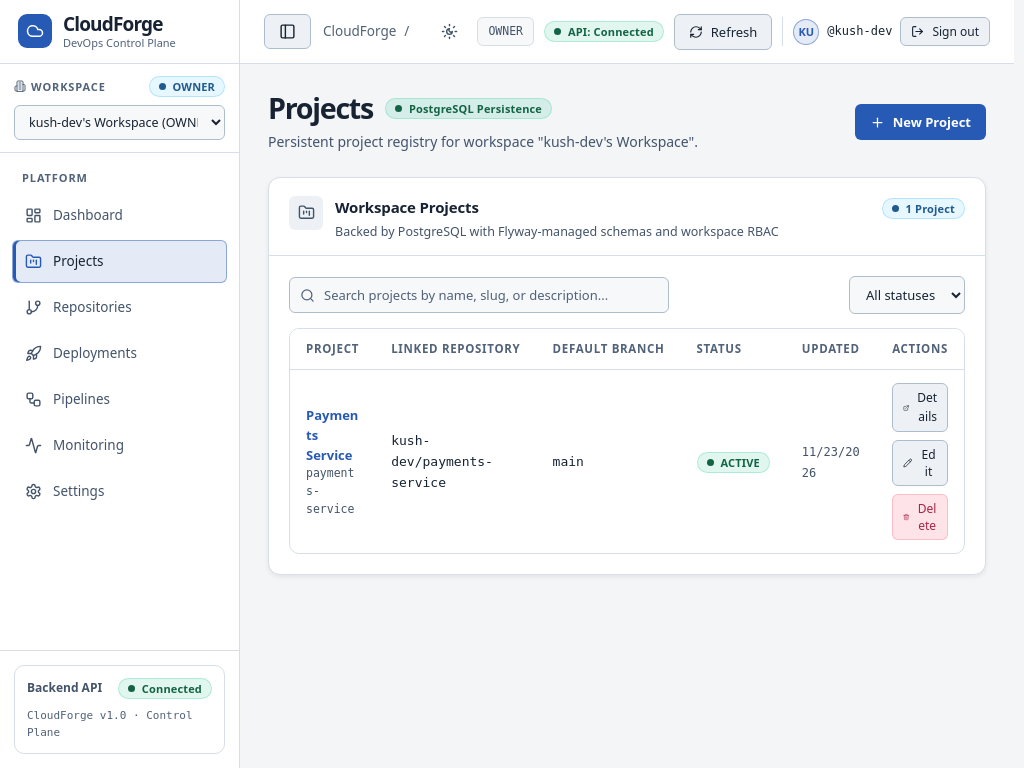
CloudForge Phase 2 Web Console › supports creating a persistent project and surfaces backend API validation errors cleanly
The image size is (1024, 768).
Expected: the link "Payments Service" is shown, [306,406,358,464]
Click the button "New Project" at (920, 122), box [855,104,986,140]
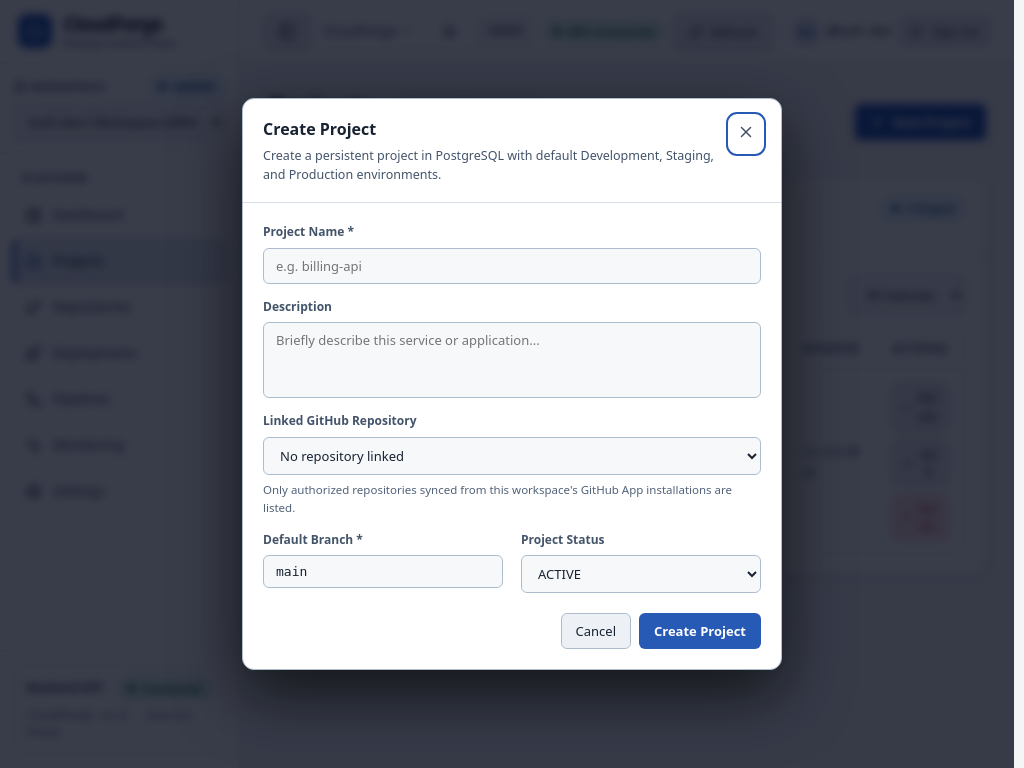
Type "Orders API" into the field labelled "Project Name *" at (512, 266), box [263,248,761,284]
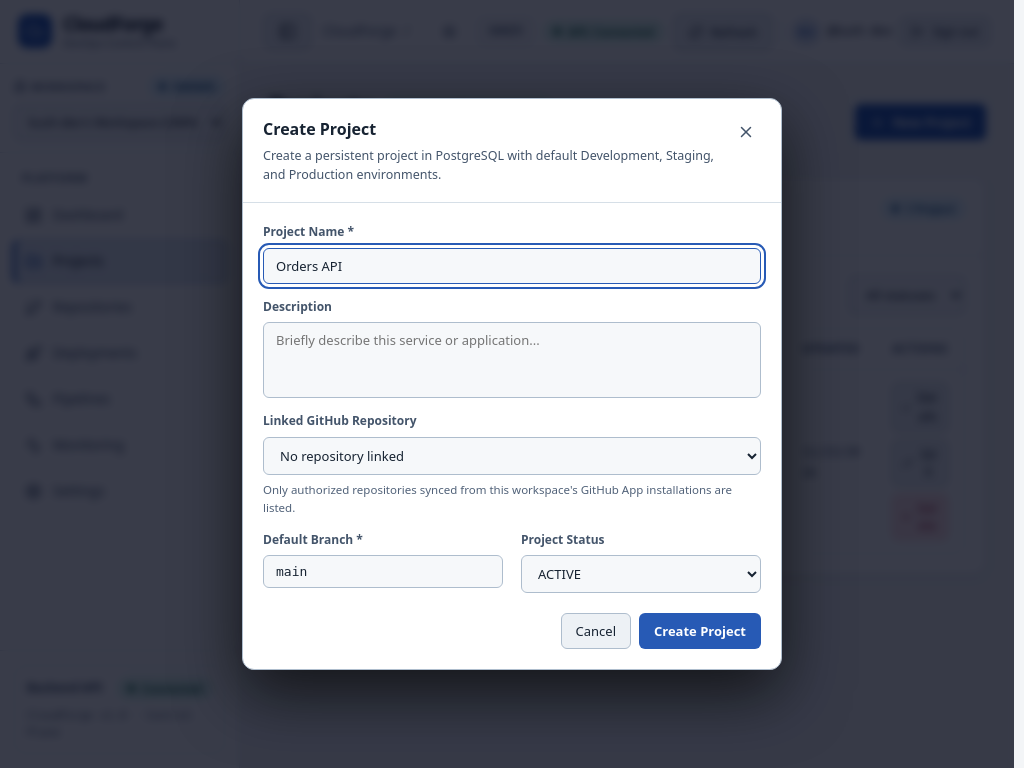
Click the button "Create Project" at (700, 631), box [639,613,761,649]
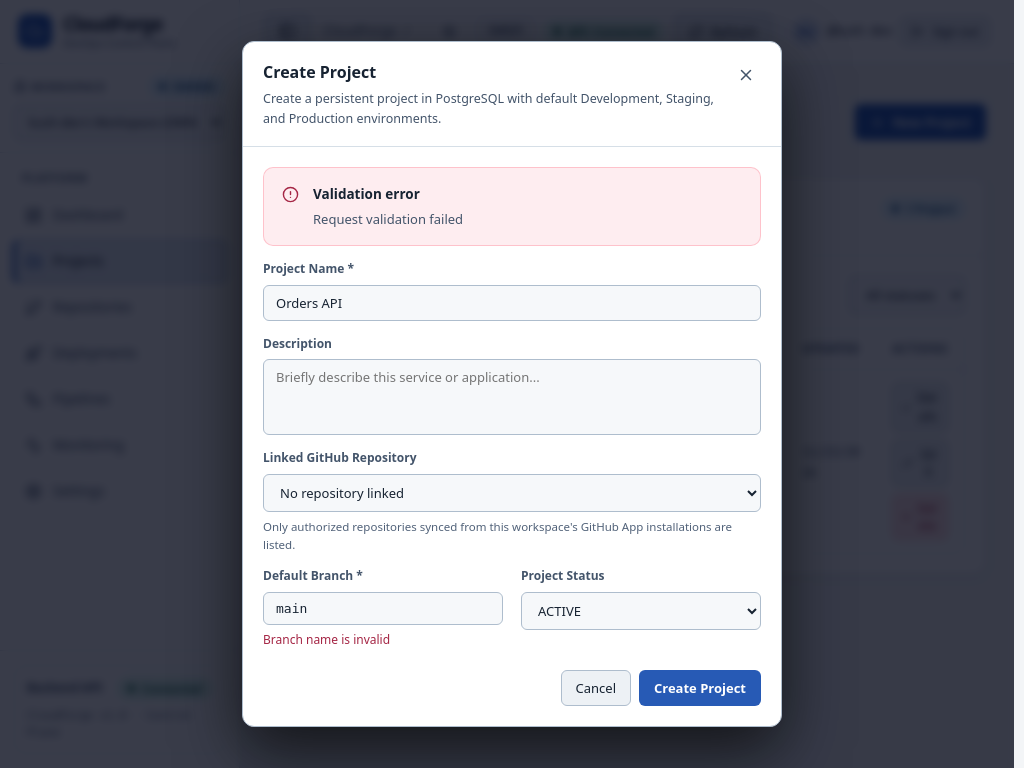
Now the text "Branch name is invalid" is shown, box [263,631,390,648]
# Retry succeeds
Click the button "Create Project" at (700, 688), box [639,670,761,706]
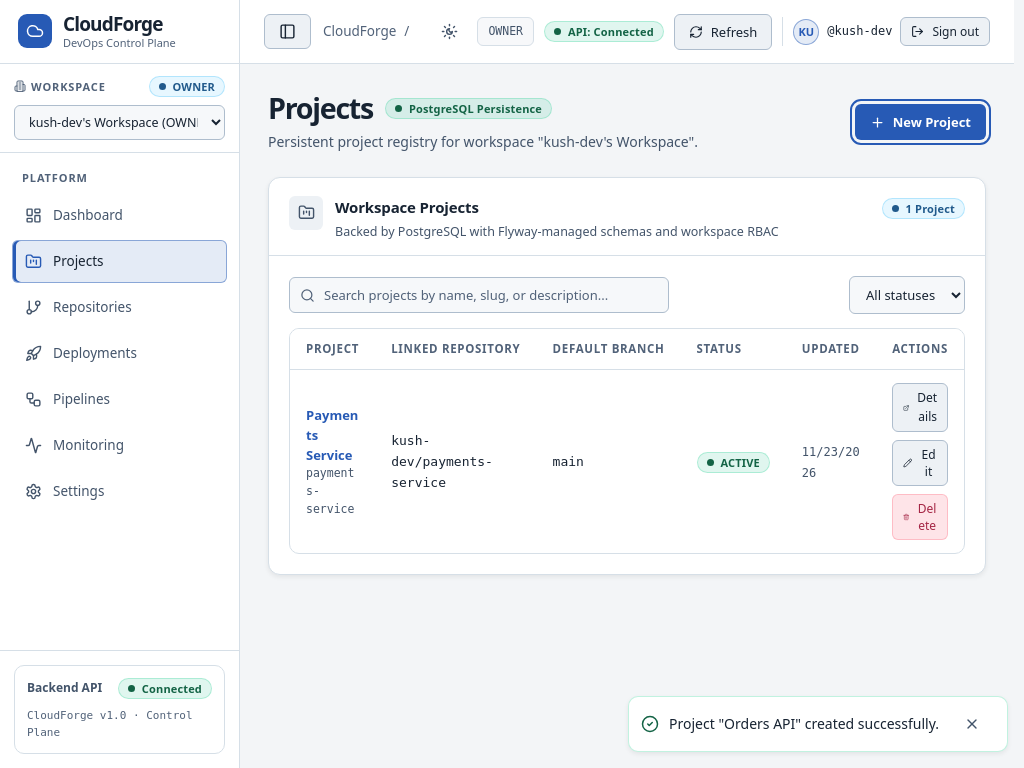
Now the text "Project \"Orders API\" created successfully." is shown, box [669,713,939,735]
